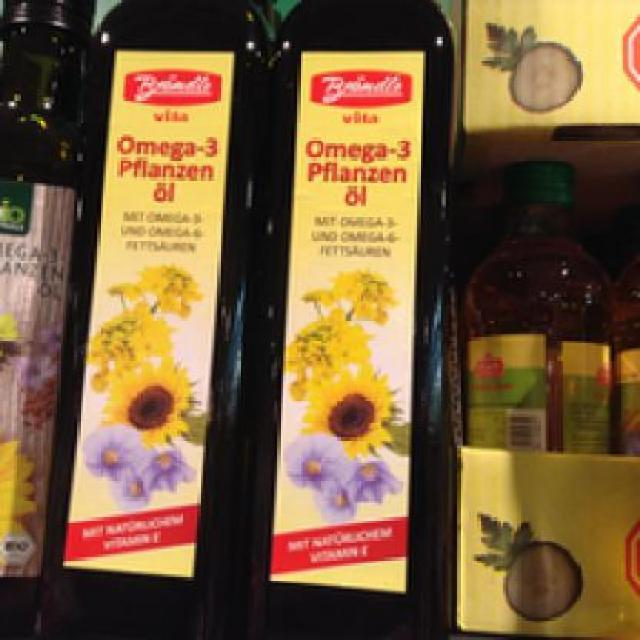Oil: (40, 0, 254, 637), (252, 2, 454, 638), (460, 152, 609, 448)
